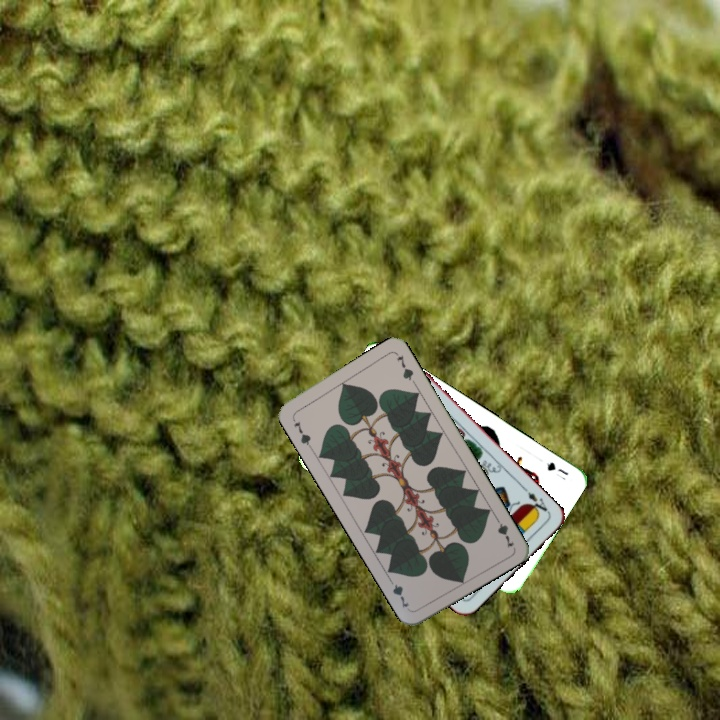EA: (523, 487, 552, 518)
G7: (491, 512, 517, 550), (288, 414, 314, 451)
GU: (542, 458, 571, 478)
